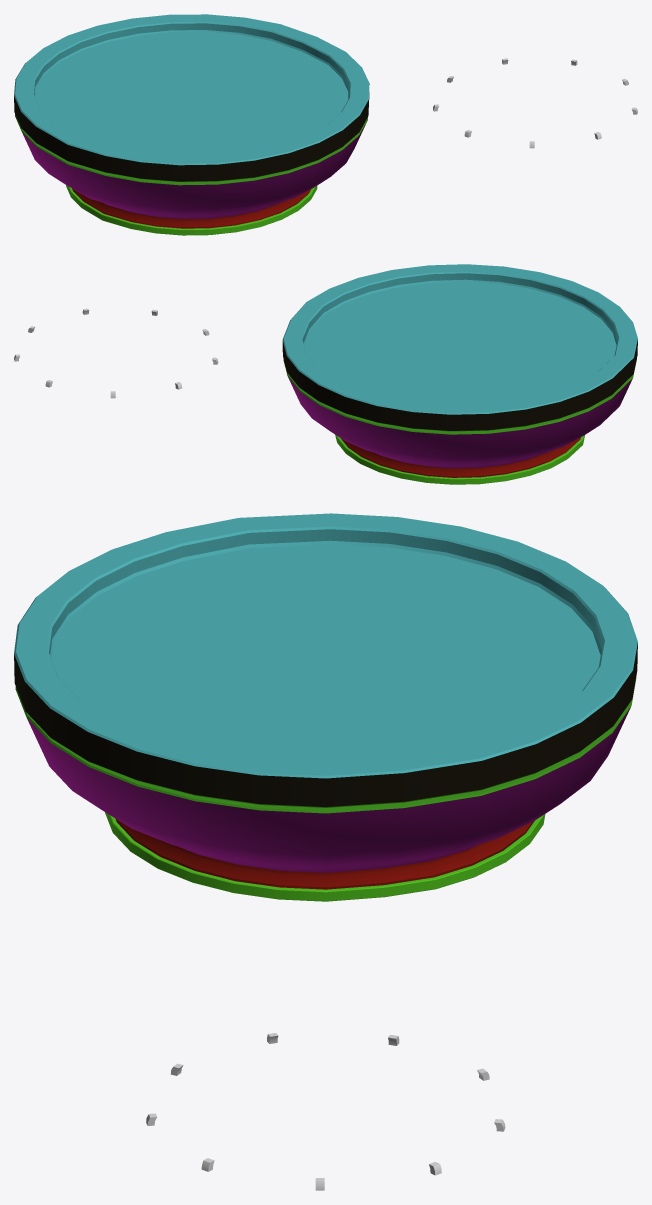
File: KF_Flower_Pot_002_LowPoly.fbx
3 views of the same model, one above another, from view 1: azimuth 30°, elevation 25°; view 2: azimuth 150°, elevation 25°; view 3: azimuth 270°, elevation 25° (orthographic). The views are drawn at different scales.
Parts seen in each view (by area): view 1: KF_Flower_Bed_002_LowPoly, KF_Flower_Bed_002_Legs_LowPoly; view 2: KF_Flower_Bed_002_LowPoly, KF_Flower_Bed_002_Legs_LowPoly; view 3: KF_Flower_Bed_002_LowPoly, KF_Flower_Bed_002_Legs_LowPoly.
Part boxes in pixels (left/top/right/bottom): KF_Flower_Bed_002_LowPoly: left=14, top=14, right=369, bottom=235; KF_Flower_Bed_002_Legs_LowPoly: left=433, top=58, right=637, bottom=148; KF_Flower_Bed_002_LowPoly: left=282, top=264, right=637, bottom=484; KF_Flower_Bed_002_Legs_LowPoly: left=14, top=308, right=218, bottom=398; KF_Flower_Bed_002_LowPoly: left=14, top=513, right=637, bottom=901; KF_Flower_Bed_002_Legs_LowPoly: left=146, top=1033, right=505, bottom=1190.
Size of the model in its own units: 18.5 by 9.7 by 3.
